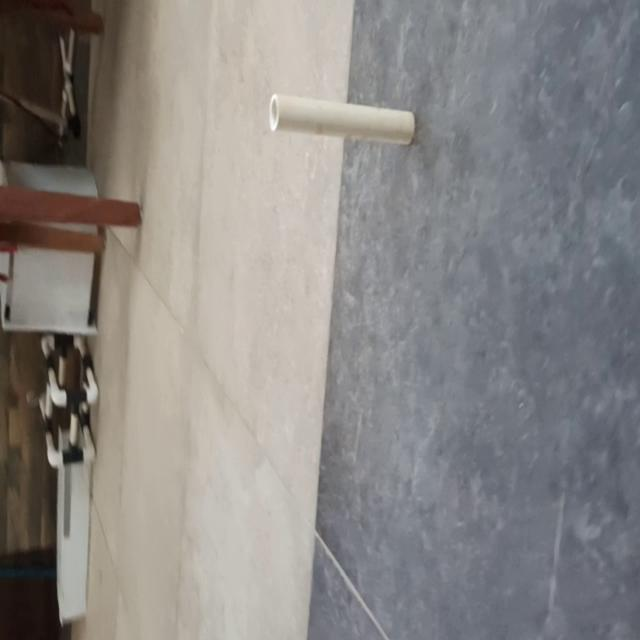Cube: (268, 90, 416, 148)
